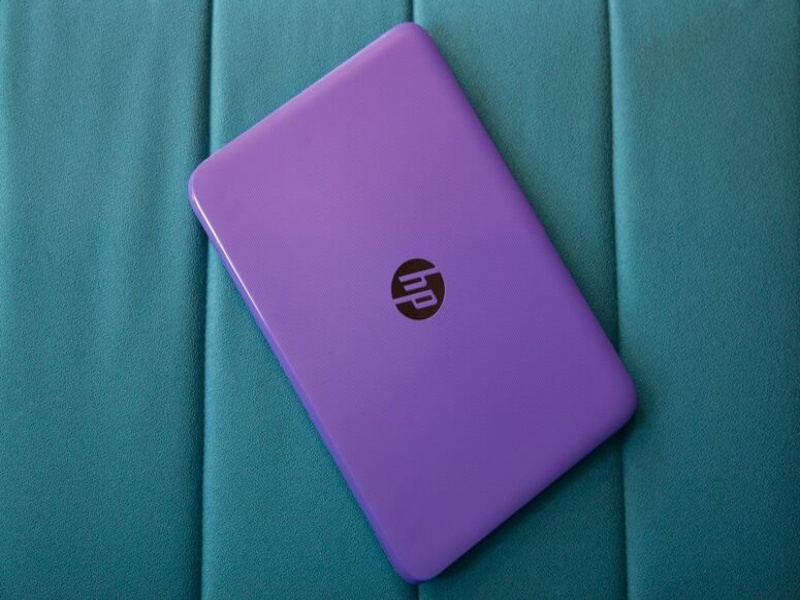hp: (392, 259, 443, 315)
